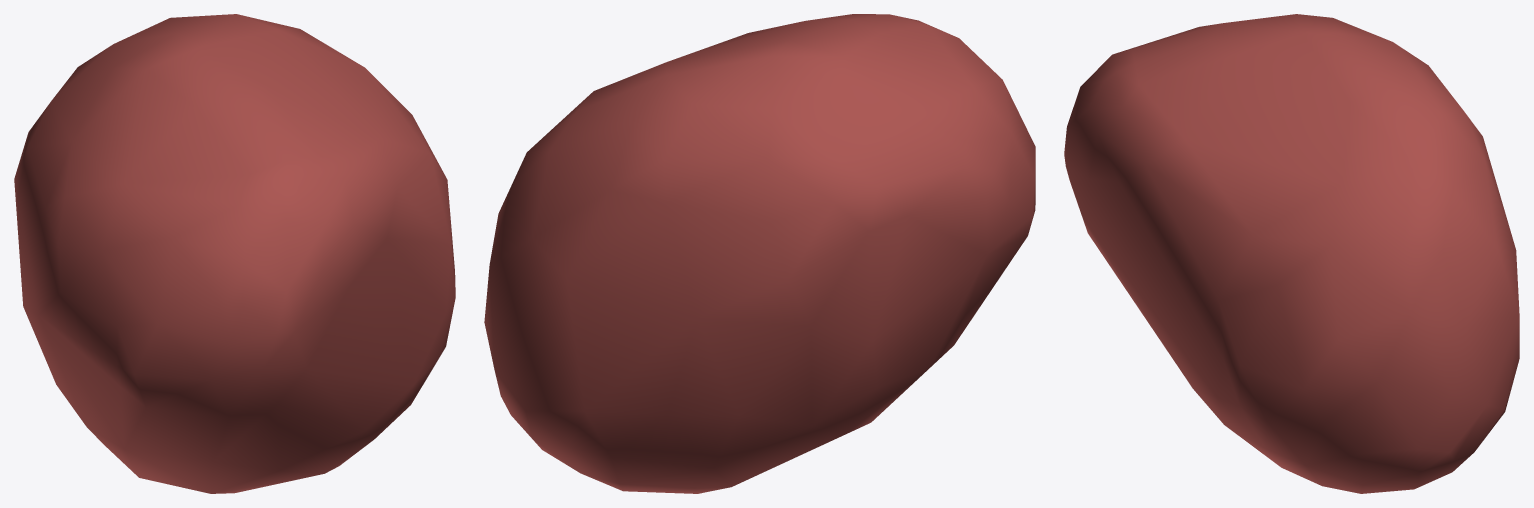
File: FMA73434.glb
3 views of the same model, side by side, from view 1: azimuth 30°, elevation 25°; view 2: azimuth 150°, elevation 25°; view 3: azimuth 270°, elevation 25° (orthographic). The views are drawn at different scales.
Visible parts, largest first — view 1: FMA73434; view 2: FMA73434; view 3: FMA73434.
Boxes of the visible parts, x1,y1,x2,y2 form: FMA73434: [14, 14, 455, 493]; FMA73434: [484, 14, 1035, 493]; FMA73434: [1064, 14, 1519, 493].
Bounding box in the file's own units: 0.0075 × 0.00735 × 0.00747.
